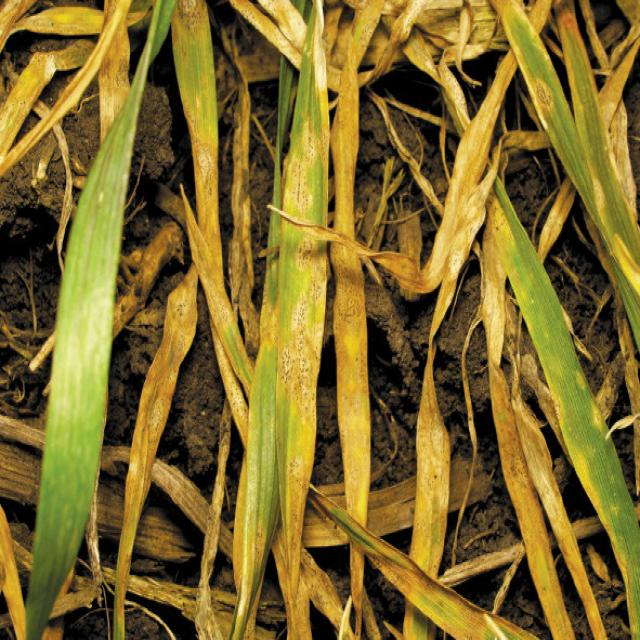wheat-septoria: (489, 364, 576, 640), (180, 97, 234, 330), (136, 282, 198, 462), (0, 41, 93, 161), (448, 141, 500, 273), (300, 547, 357, 640), (281, 308, 323, 432), (331, 78, 361, 211), (100, 31, 132, 144), (418, 400, 449, 505), (539, 181, 577, 258), (610, 106, 636, 218), (333, 245, 366, 330), (344, 1, 386, 62), (487, 190, 514, 272), (288, 462, 307, 566), (173, 1, 209, 42), (291, 160, 313, 210), (533, 80, 555, 110), (304, 124, 321, 160)
